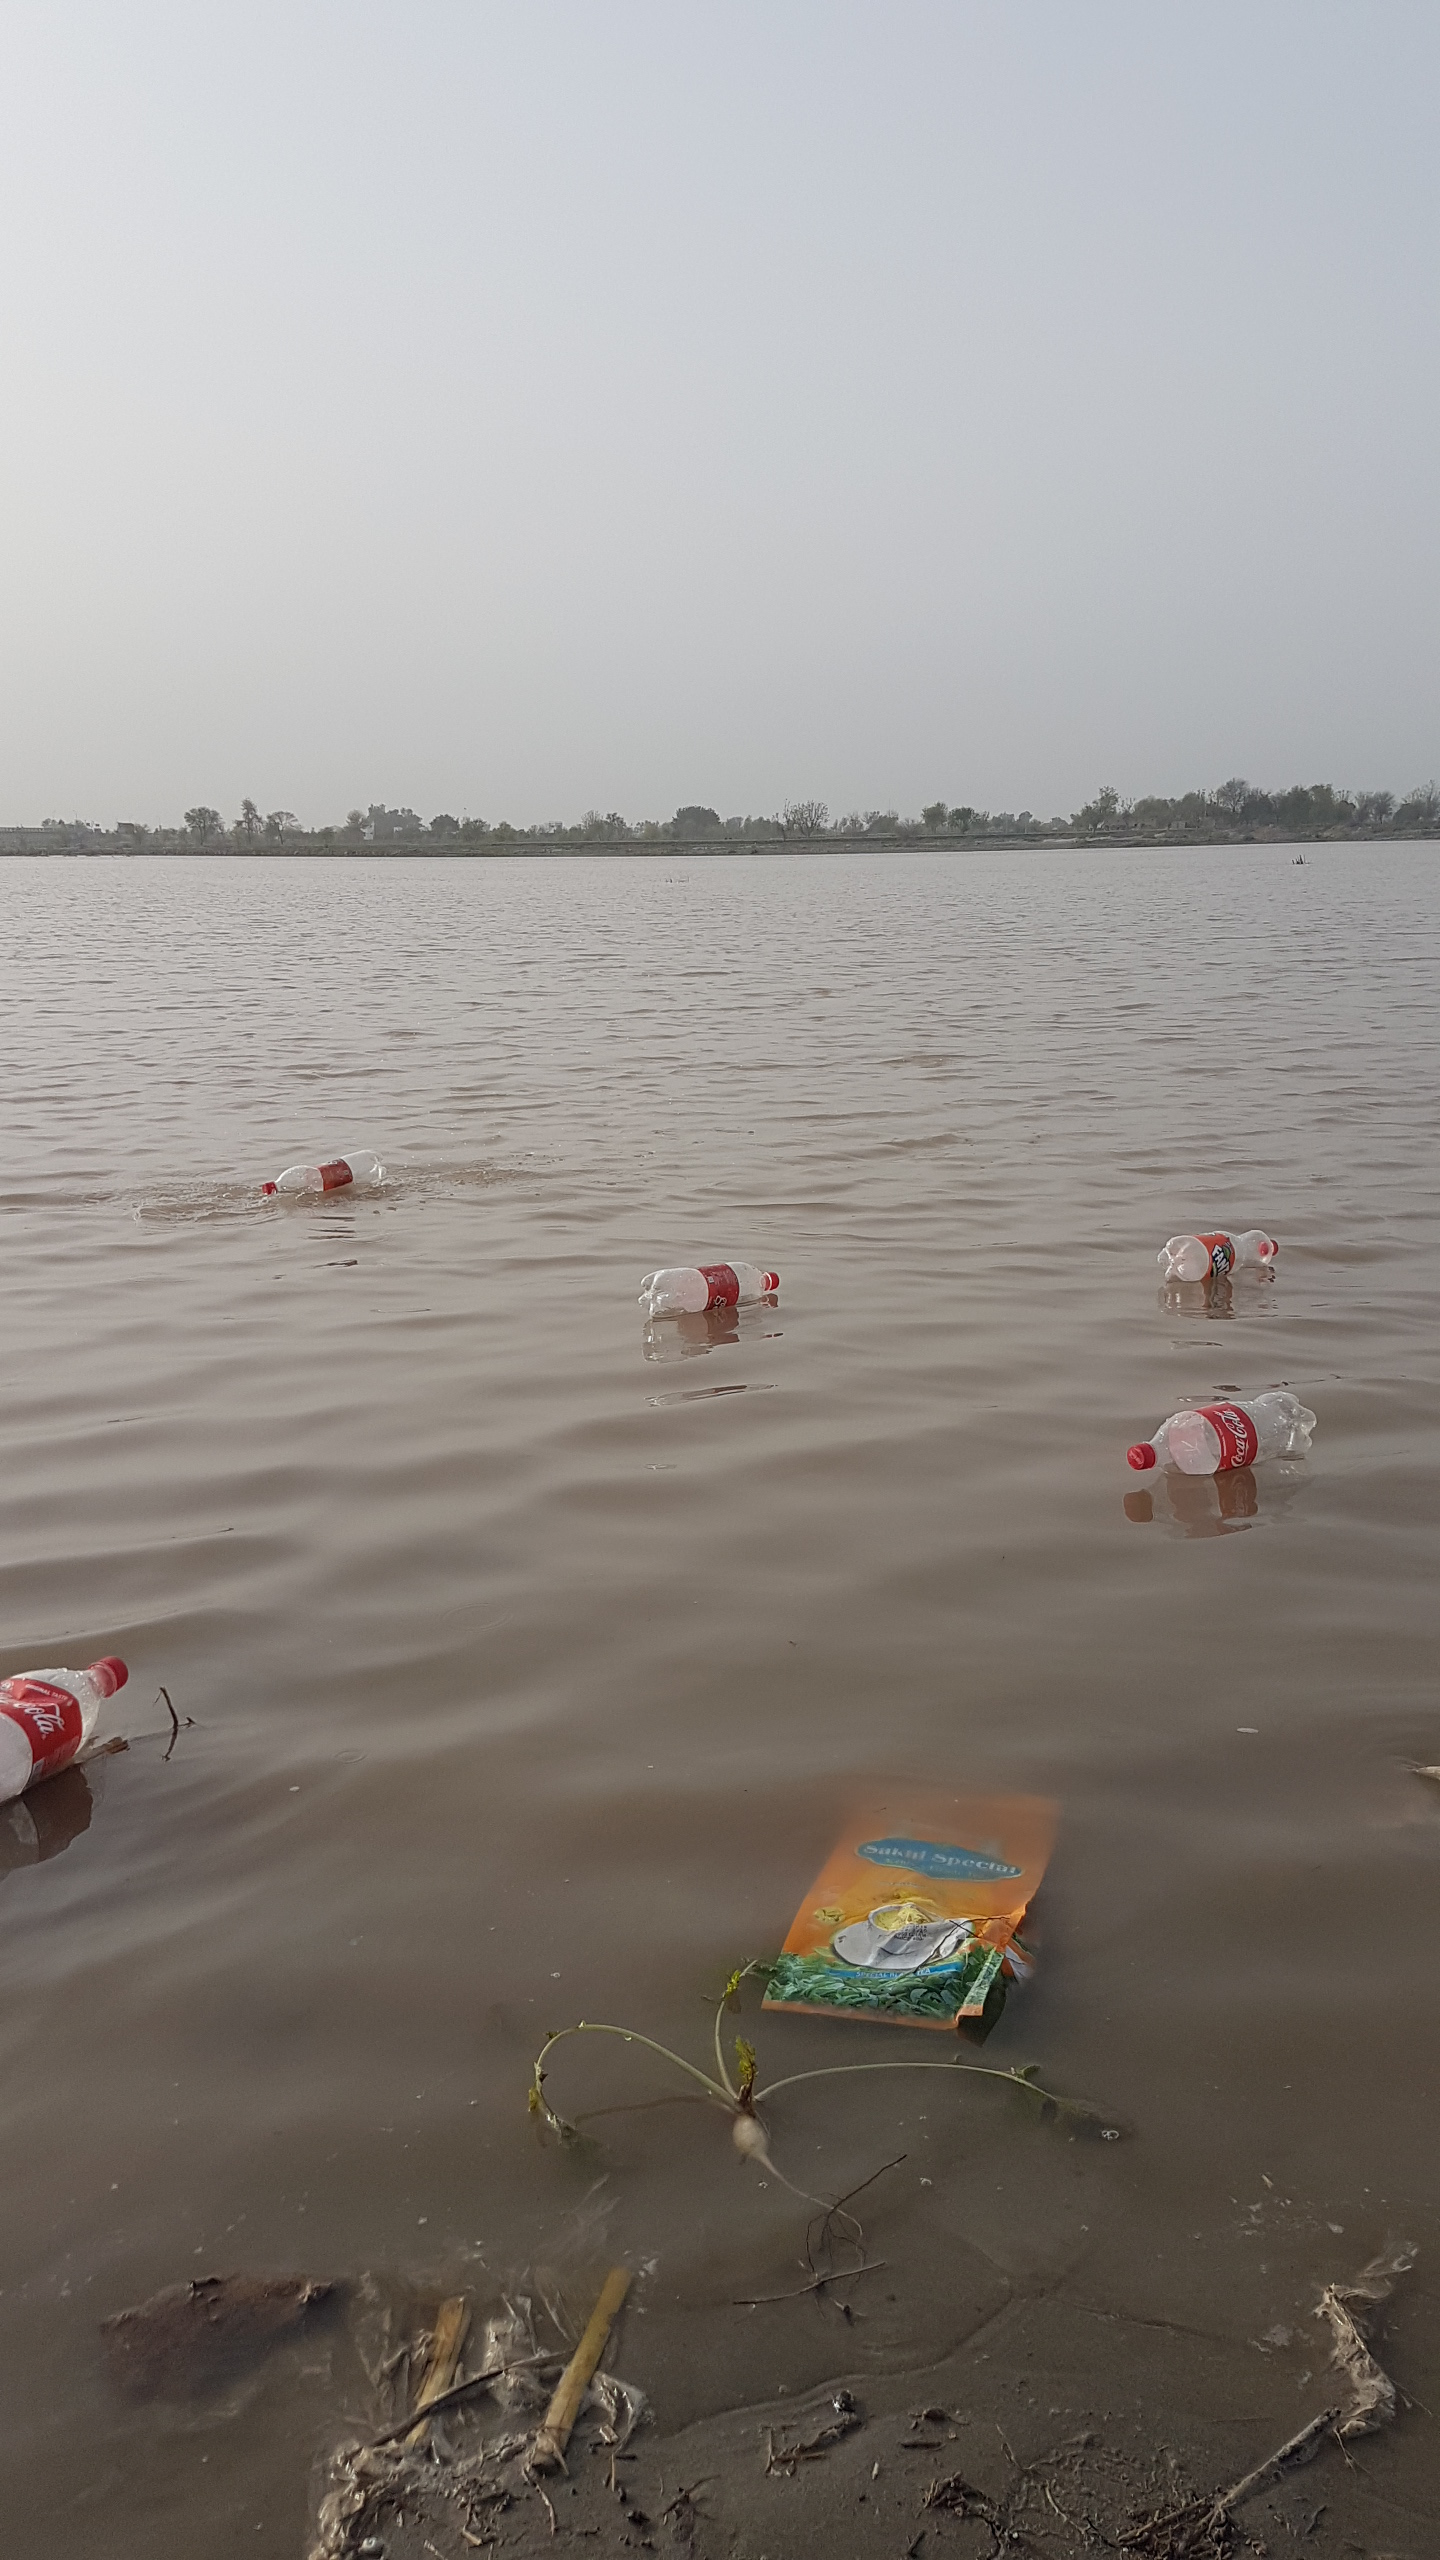Plastic Bottle: (2, 1655, 128, 1804), (1127, 1391, 1317, 1477), (638, 1261, 781, 1319), (1157, 1227, 1278, 1282), (260, 1148, 387, 1197)
